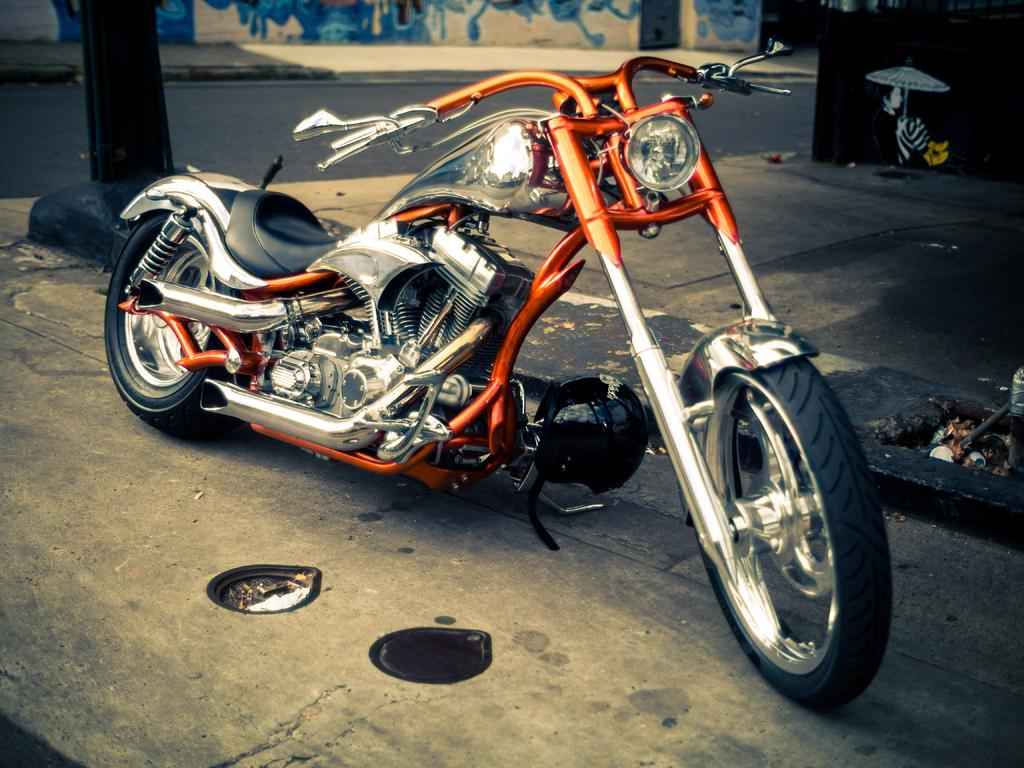Motorcycle: (78, 31, 956, 652)
